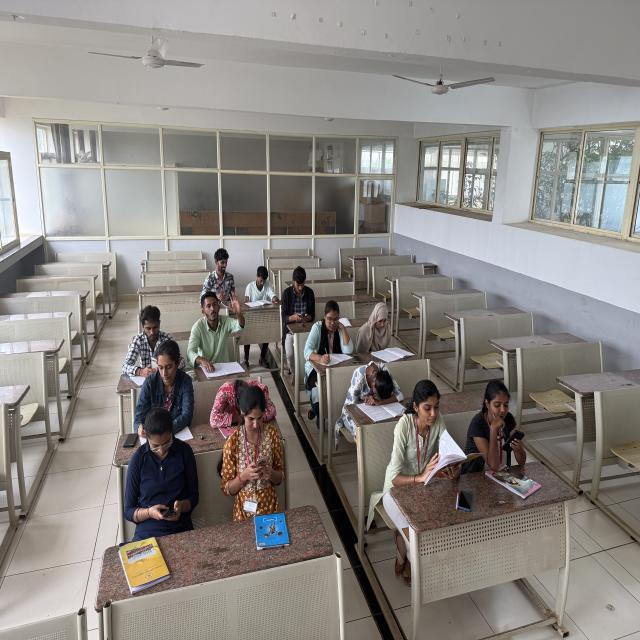Hand Rising: (188, 283, 250, 370)
Reading: (384, 380, 476, 482), (357, 300, 408, 361), (244, 265, 278, 305)
Sleeping: (208, 368, 284, 432), (338, 357, 406, 414)
Using Phone: (123, 408, 210, 532), (225, 377, 288, 514), (468, 376, 527, 469), (119, 303, 185, 374), (281, 264, 315, 324)
Writing: (132, 343, 198, 437), (301, 300, 358, 371)
